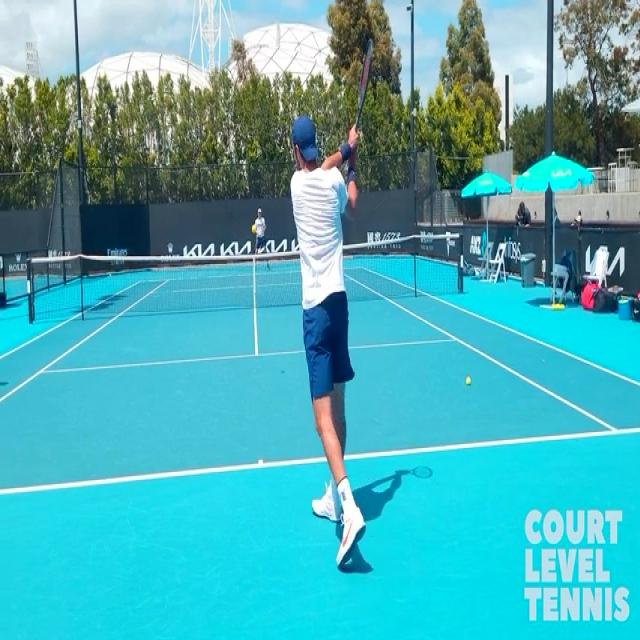forehand-finish: (285, 37, 379, 580)
